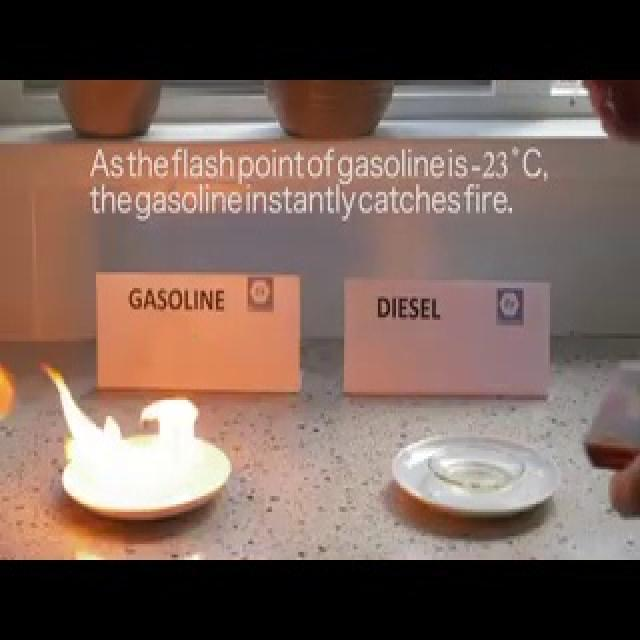fire: (36, 360, 208, 510)
